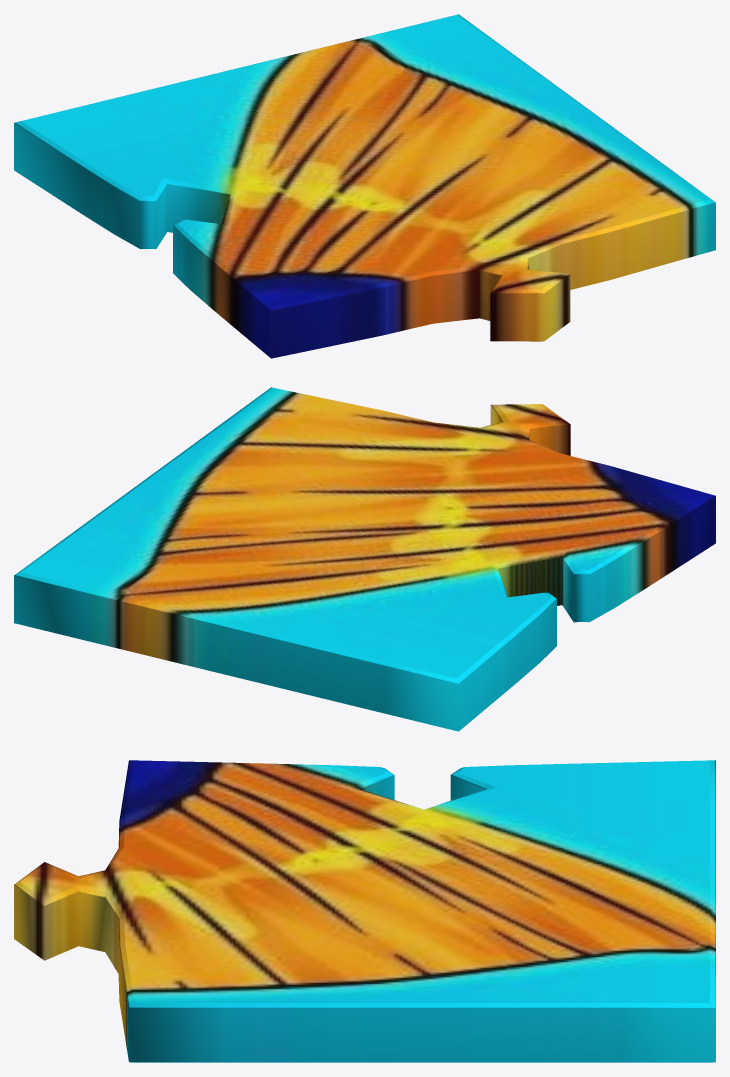
3 renders of one model, top to bottom at view 1: azimuth 30°, elevation 25°; view 2: azimuth 150°, elevation 25°; view 3: azimuth 270°, elevation 25°, orthographic. The views are drawn at different scales.
Visible parts, largest first — view 1: jigsawPuzzle4x3_Grp_piece_4x1_Grp_Geo; view 2: jigsawPuzzle4x3_Grp_piece_4x1_Grp_Geo; view 3: jigsawPuzzle4x3_Grp_piece_4x1_Grp_Geo.
Part boxes in pixels (x1,y1,x2,y2): jigsawPuzzle4x3_Grp_piece_4x1_Grp_Geo: (14,14,715,358); jigsawPuzzle4x3_Grp_piece_4x1_Grp_Geo: (14,387,715,731); jigsawPuzzle4x3_Grp_piece_4x1_Grp_Geo: (14,760,715,1062).
Size of the model in its own units: 0.9787 by 0.11 by 1.17.
1 material, 1 textured.
